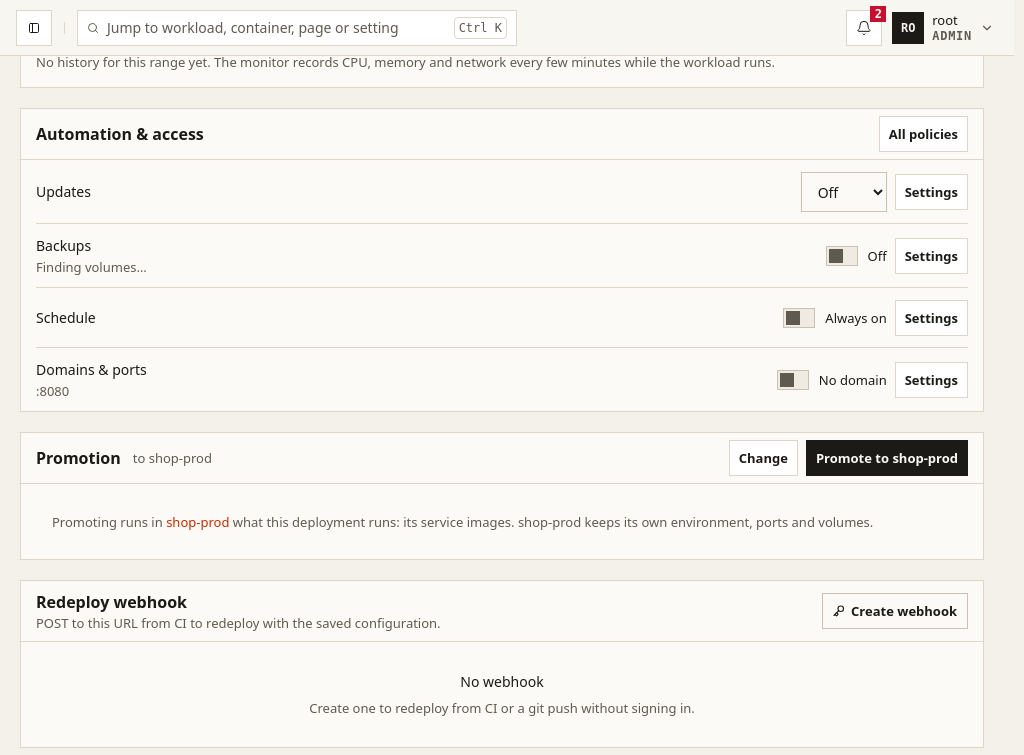
it: promotion panel › clears the target and reports pairing errors
(page scrolled)
Click the button "Change" at coordinates (763, 458), box [729,440,798,476]
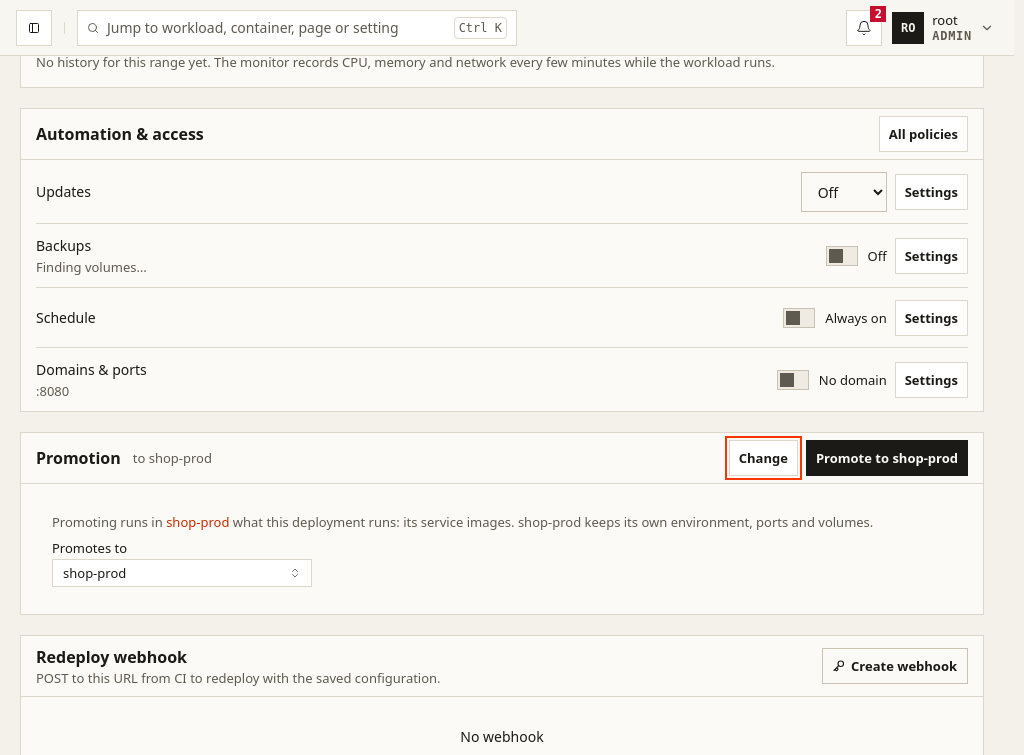
Click the dropdown named "Promotes to" at coordinates (95, 573), box [52,559,312,587]
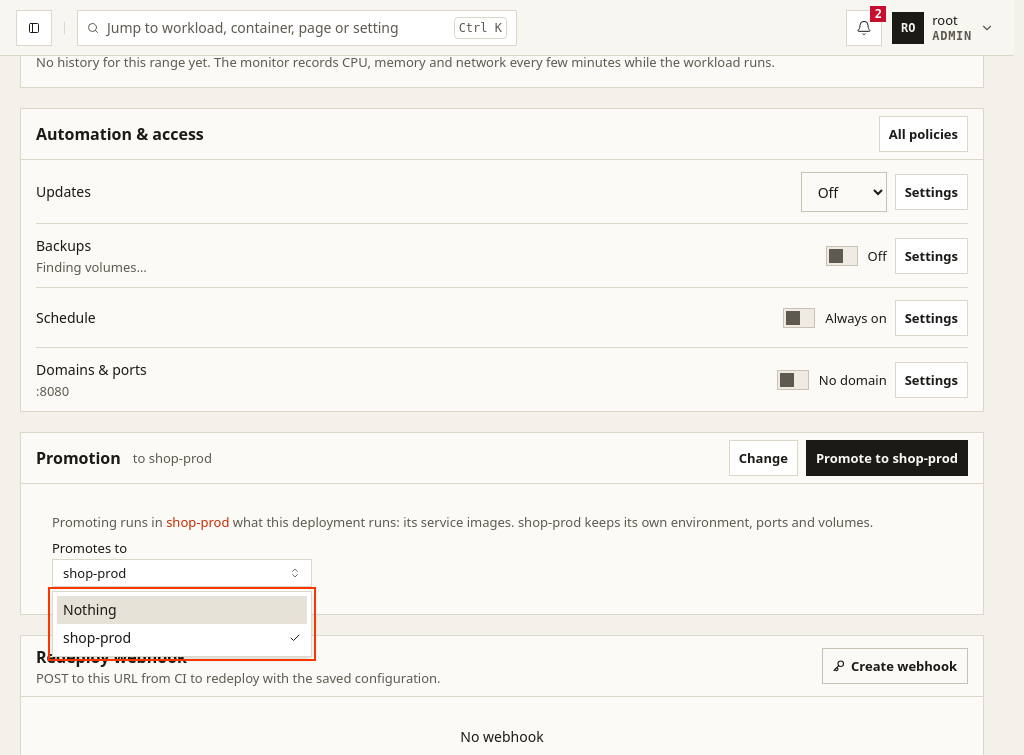
Click the option "Nothing" at coordinates (182, 610), box [57,596,307,624]
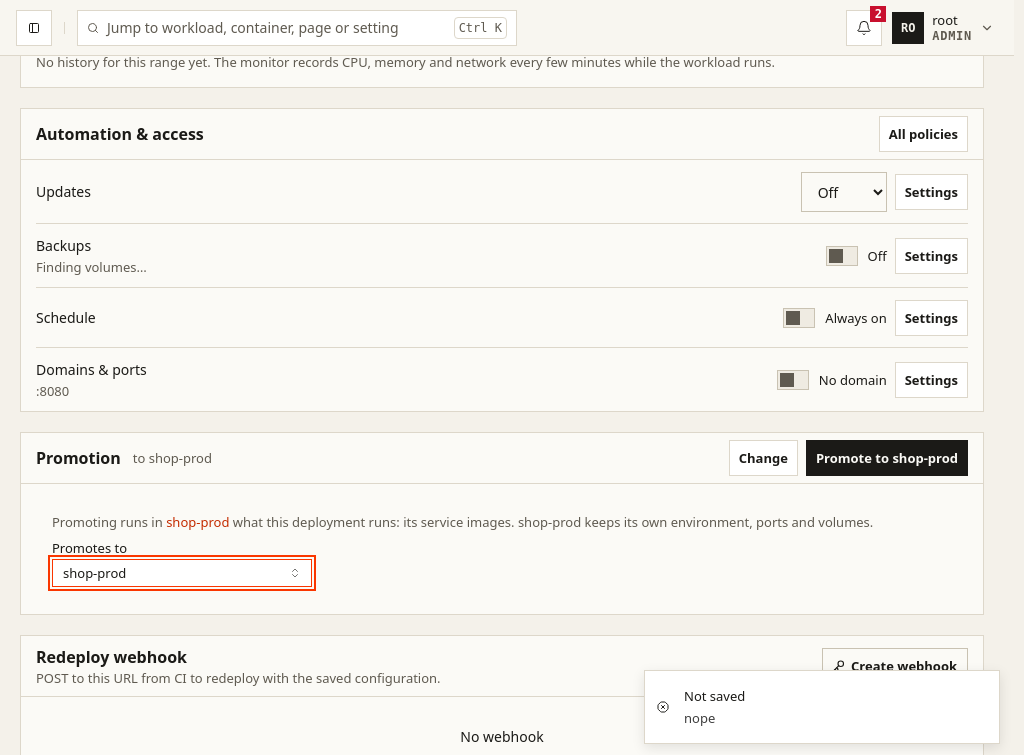
Result: the text "nope" is shown at [684,709,715,727]
